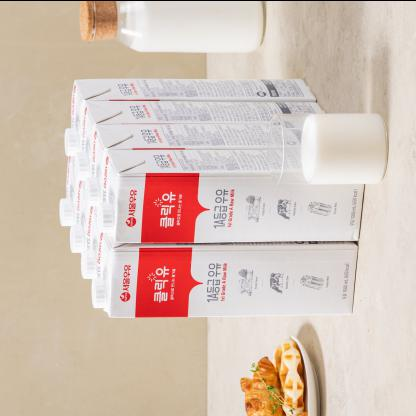tetra: (75, 226, 366, 338)
